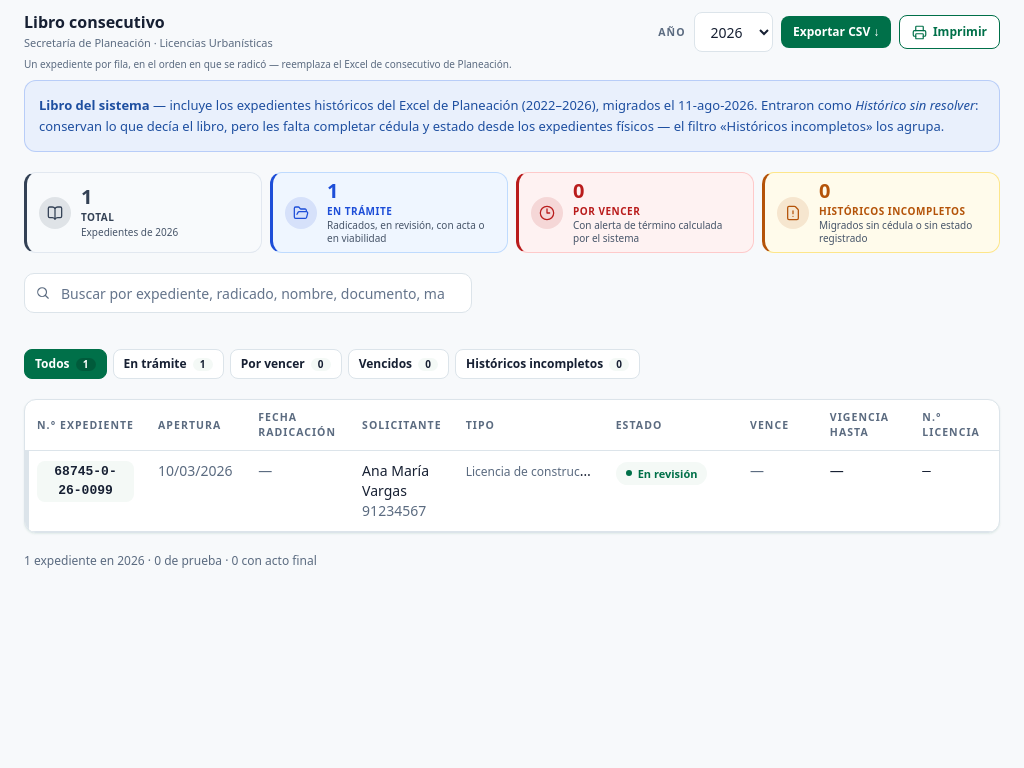
Test case: LibroConsecutivoClient › panel de detalle: se abre al hacer clic en la fila, Escape lo cierra y devuelve el foco al control que lo abrió
Select "2026" in the dropdown named "Año del libro consecutivo" at (733,32), box [694,12,773,52]
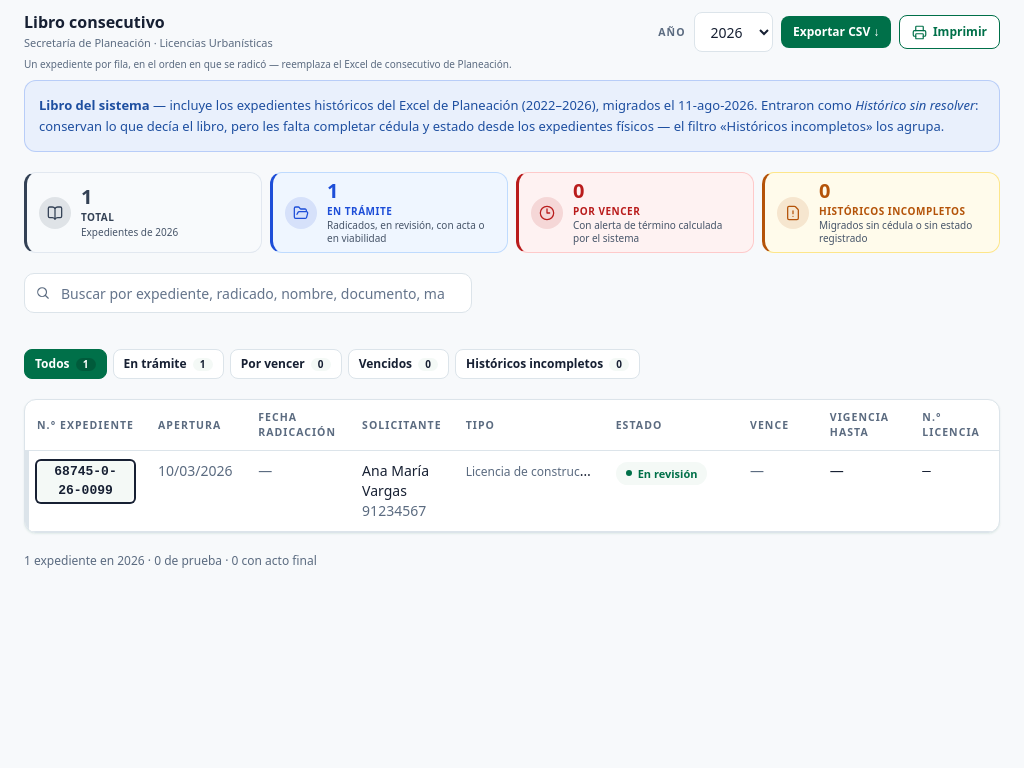
Click the button "68745-0-26-0099".
click(86, 482)  # box [37,461,134,502]
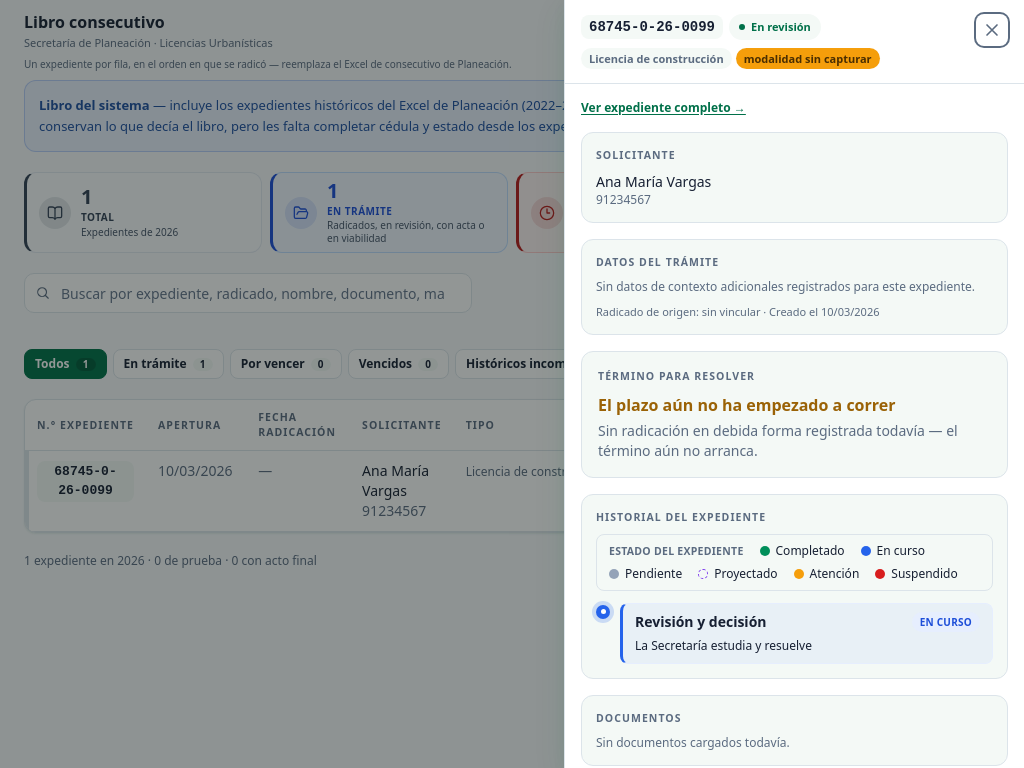
Expected: the text "Ana María Vargas" is shown, [596,172,711,191]
Press Escape
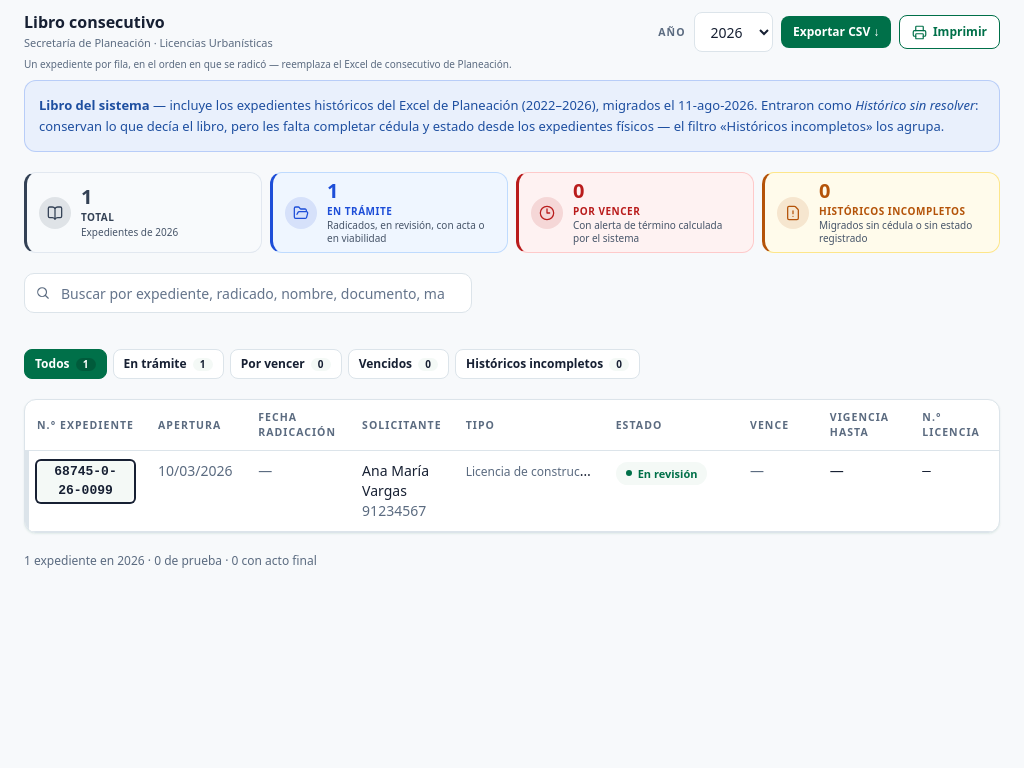
Expected: the dialog is gone
